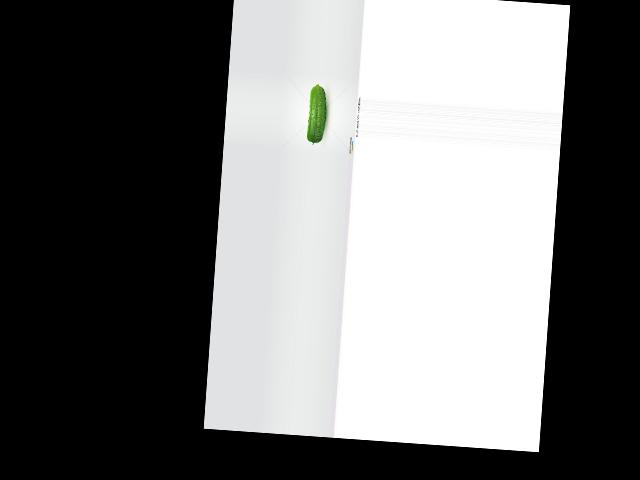cucumber: (306, 83, 328, 145)
